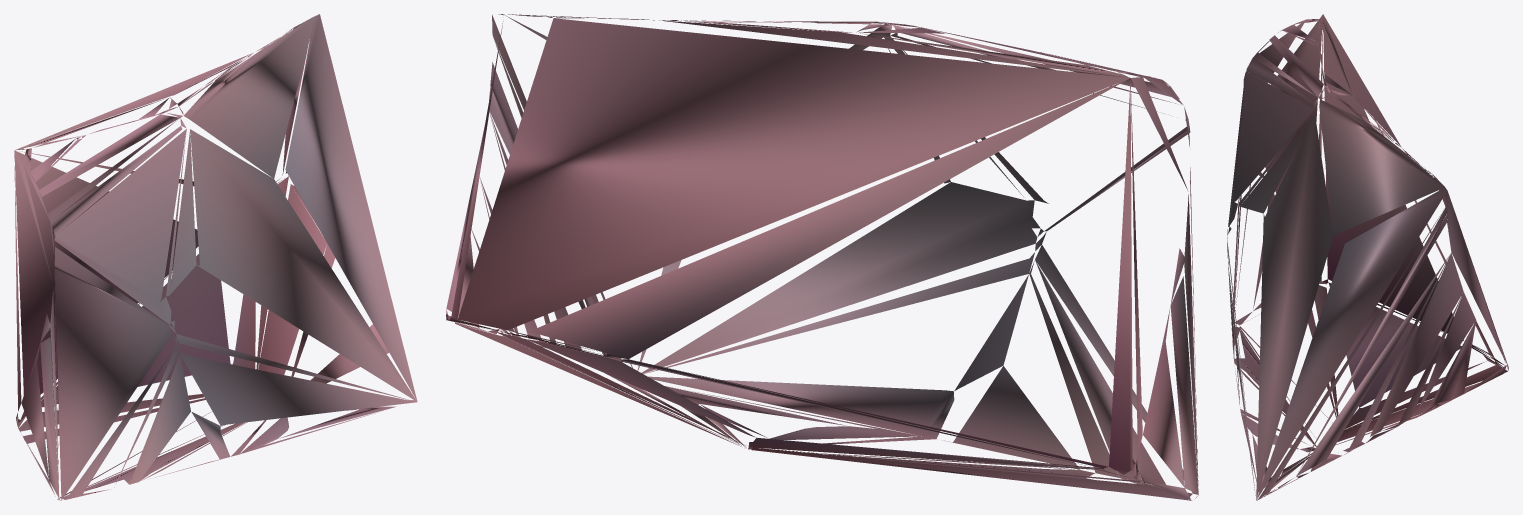
The model's file is alpha3.gltf.
3 views of the same model, side by side, from view 1: azimuth 30°, elevation 25°; view 2: azimuth 150°, elevation 25°; view 3: azimuth 270°, elevation 25° (orthographic). The views are drawn at different scales.
Size of the model in its own units: 0.6776 by 0.5568 by 0.455.
